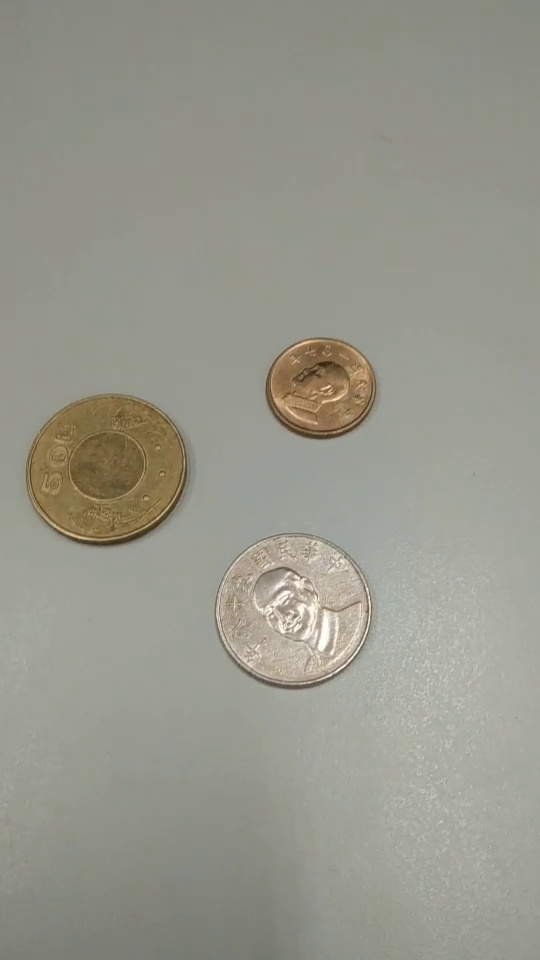NT$ 1: (266, 336, 379, 439)
NT$ 10: (214, 531, 370, 690)
NT$ 50: (25, 393, 189, 548)
